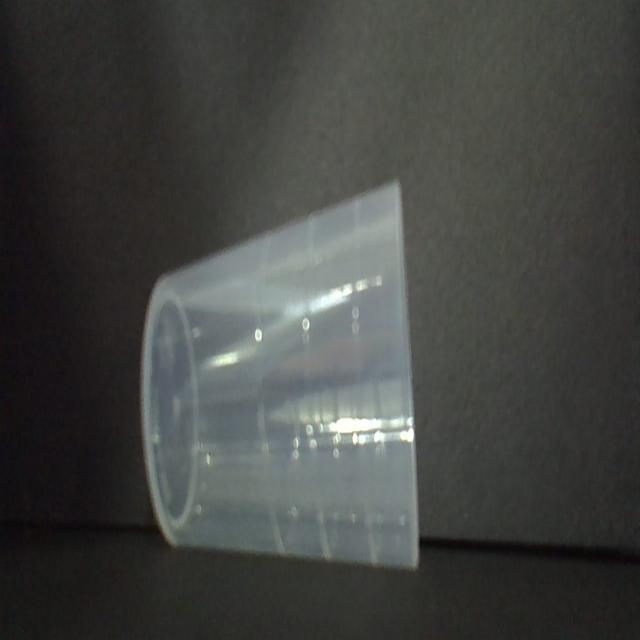cup: (137, 178, 428, 574)
